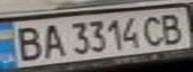1: (103, 16, 124, 51)
3: (66, 19, 90, 56), (87, 17, 109, 53)
4: (121, 14, 145, 50)
A: (36, 21, 66, 60)
B: (6, 24, 45, 62), (157, 10, 190, 45)
C: (139, 11, 169, 47)
